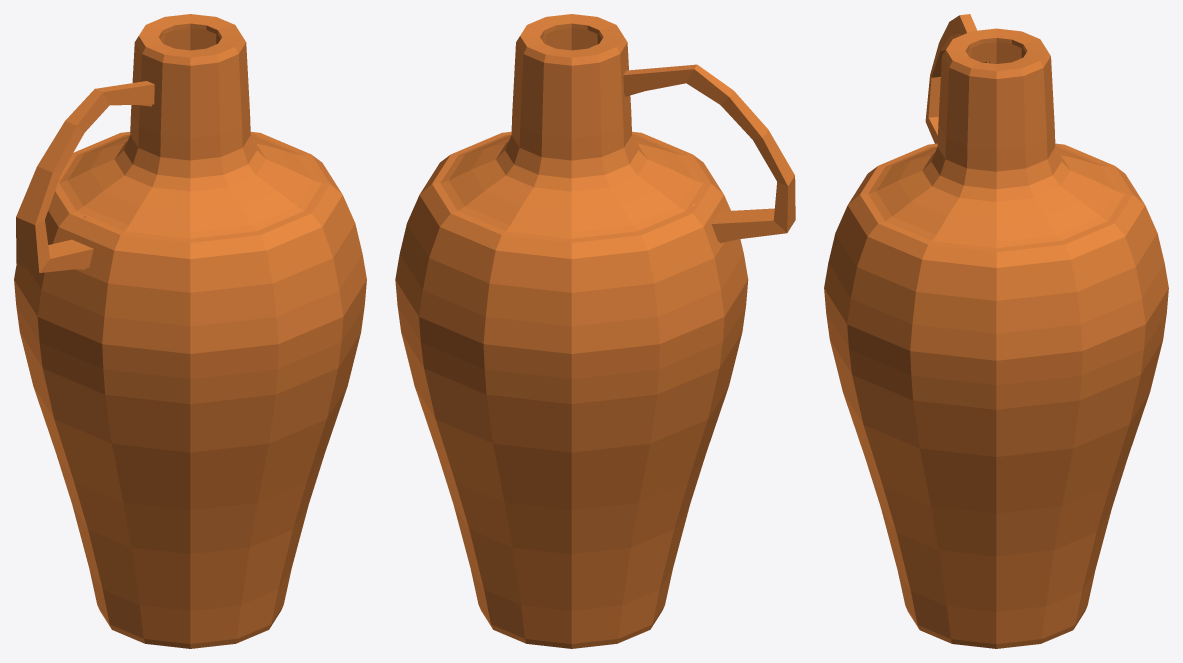
Rendered from CtrlAlt_Vase_5.fbx.
3 views of the same model, side by side, from view 1: azimuth 30°, elevation 25°; view 2: azimuth 150°, elevation 25°; view 3: azimuth 270°, elevation 25° (orthographic). The views are drawn at different scales.
Parts seen in each view (by area): view 1: Cube; view 2: Cube; view 3: Cube.
Part boxes in pixels (<box>): Cube: <box>14,14,366,648</box>; Cube: <box>395,14,795,648</box>; Cube: <box>824,14,1168,648</box>.
Size of the model in its own units: 238 by 378 by 209.
